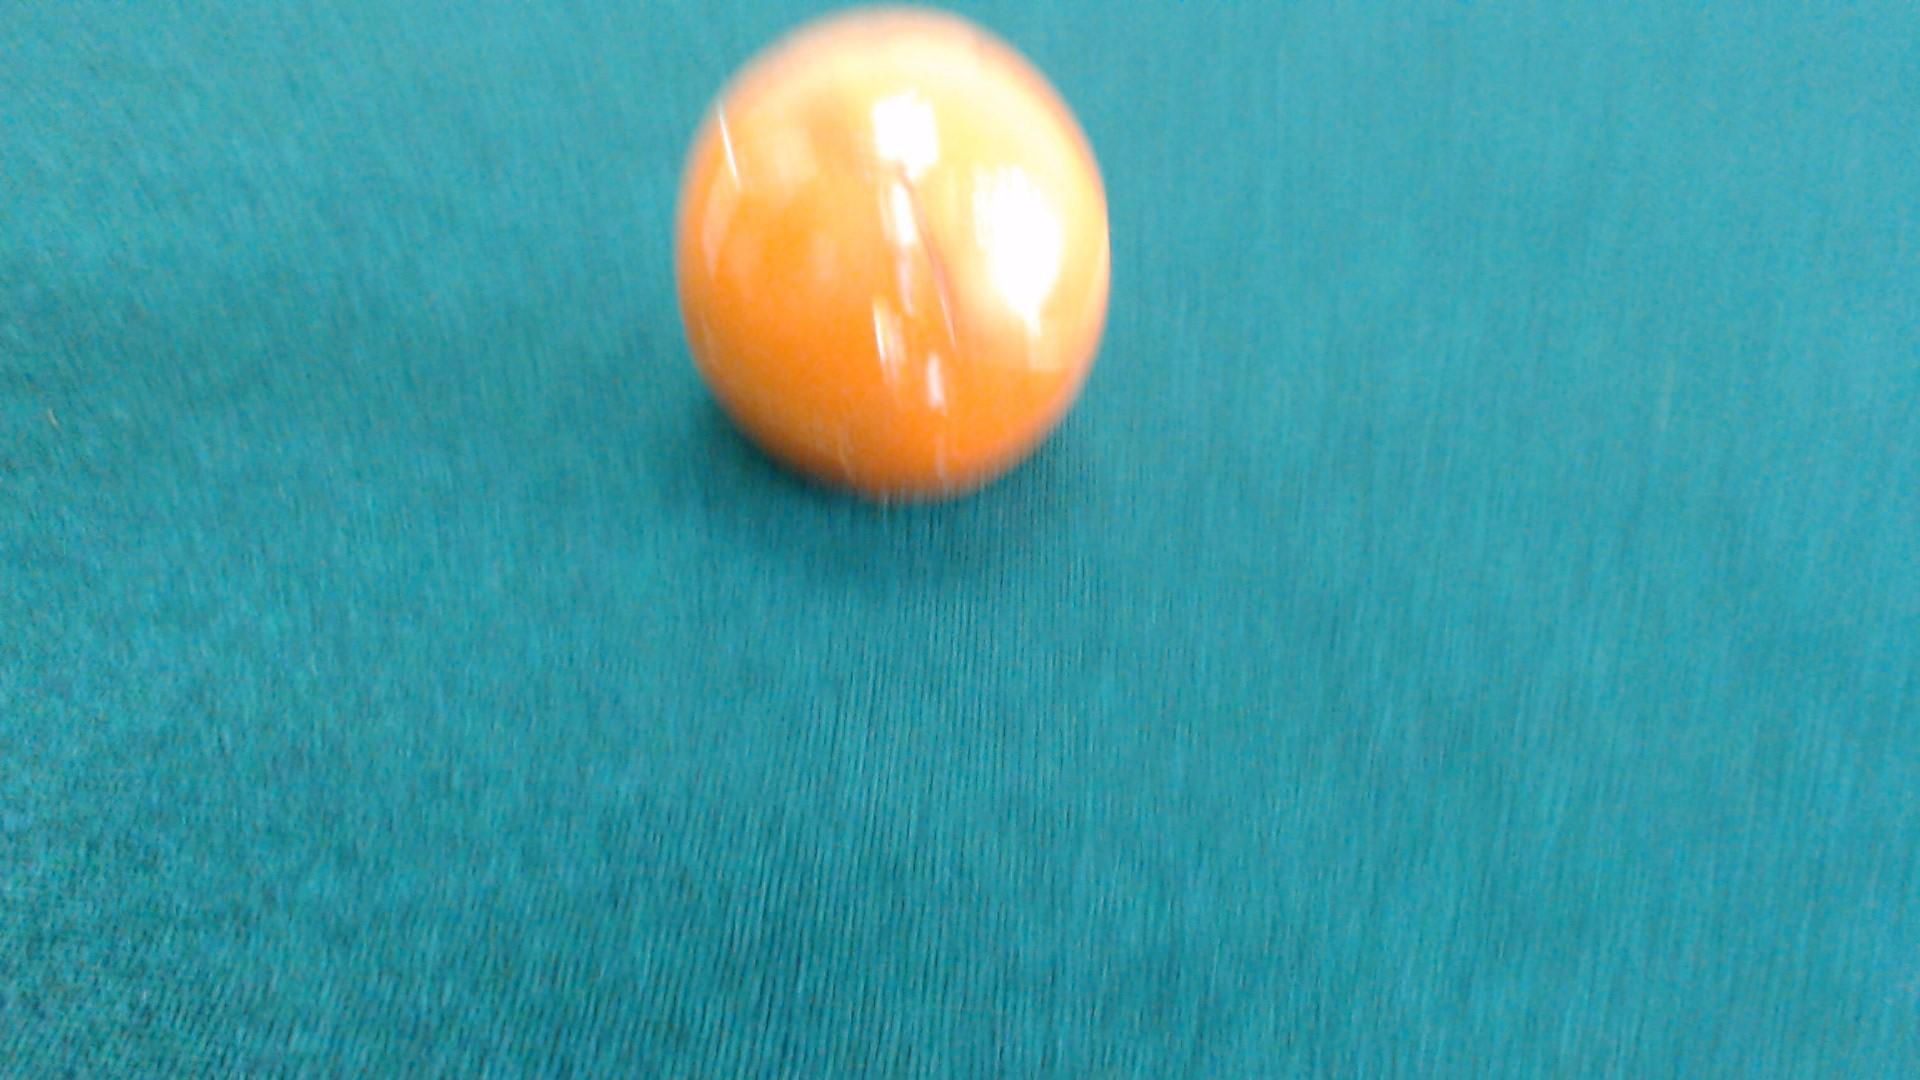bola: (604, 0, 1141, 502)
